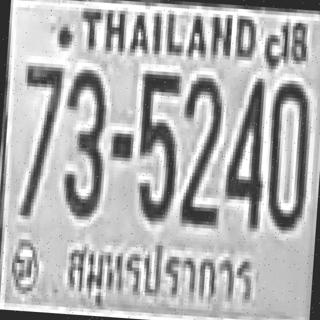N00: (262, 78, 311, 230)
N02: (175, 75, 223, 210)
N03: (58, 65, 108, 217)
N04: (220, 75, 267, 226)
N05: (130, 68, 180, 220)
N07: (14, 62, 64, 211), (16, 62, 64, 190), (18, 64, 64, 158)
P57: (59, 229, 264, 320)
